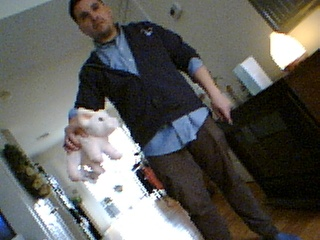piggy: (64, 106, 124, 185)
